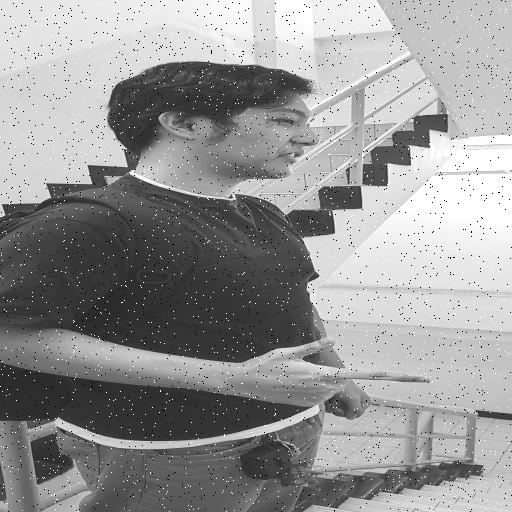next: (204, 329, 458, 417)
